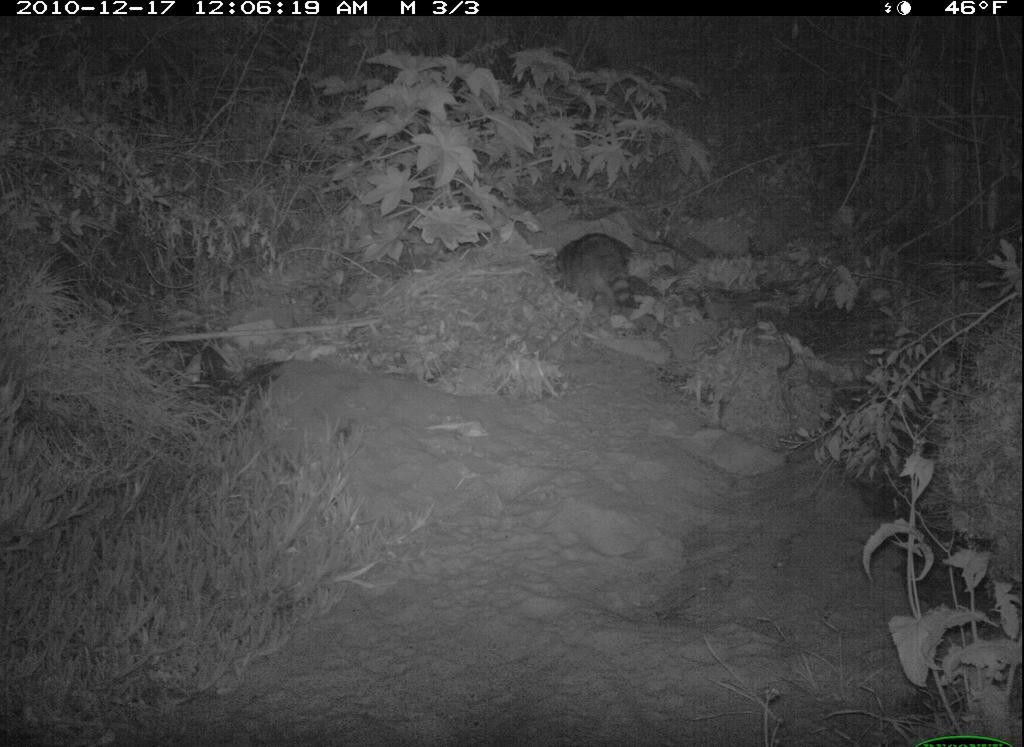raccoon: (548, 230, 646, 321)
